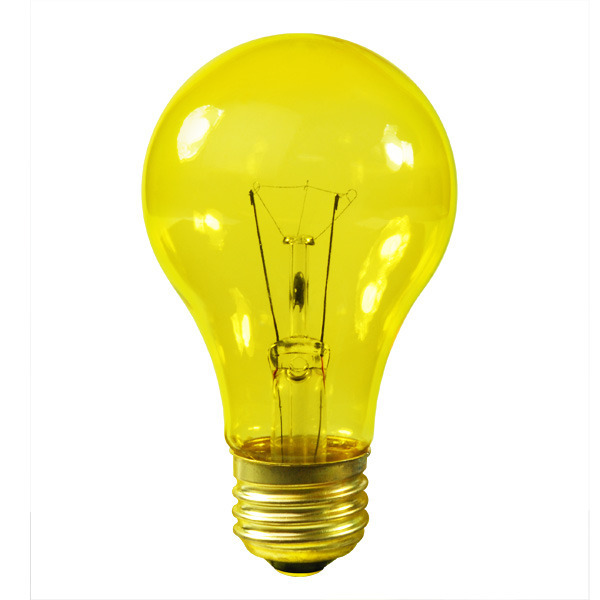Nonrec_Glass: (122, 27, 457, 584)
